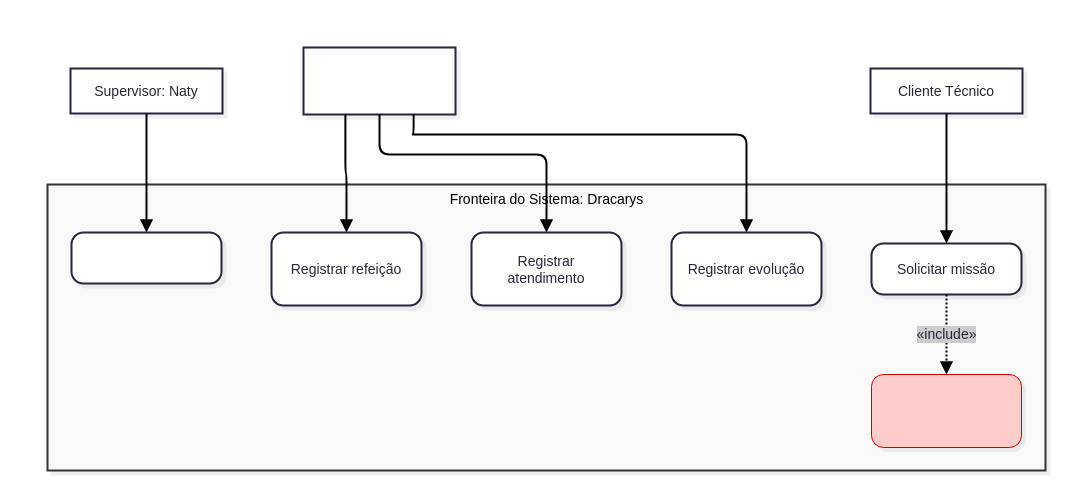
Some shapes in this 1067 by 492 pixel diagram are drawn without their labels. Here are the shapes that lost their labels. From the top down, the centre of each, then its label:
(381,82): Manejador / Falcoeiro
(148,259): Cadastrar ave
(948,413): Verificar prontidão
